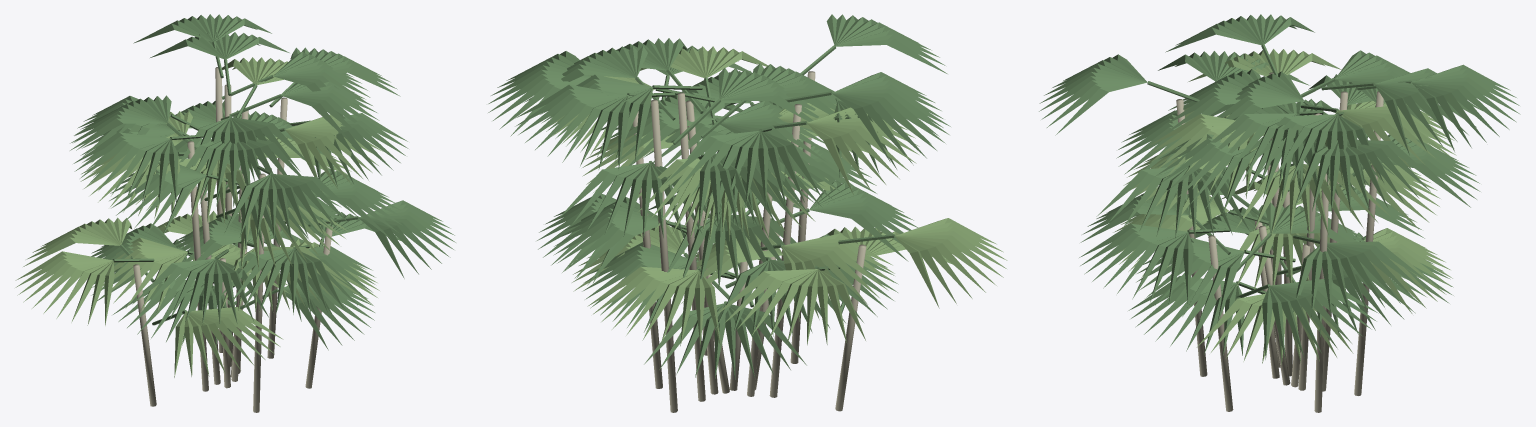
The model's file is grove-specimen-15.glb.
3 views of the same model, side by side, from view 1: azimuth 30°, elevation 25°; view 2: azimuth 150°, elevation 25°; view 3: azimuth 270°, elevation 25° (orthographic). The views are drawn at different scales.
Visible parts, largest first — view 1: grove-specimen-15; view 2: grove-specimen-15; view 3: grove-specimen-15.
Boxes of the visible parts, x1,y1,x2,y2 form: grove-specimen-15: (15,14,455,412); grove-specimen-15: (488,14,1007,412); grove-specimen-15: (1039,14,1520,412).
Bounding box in the file's own units: 3.09 × 2.22 × 2.96.
